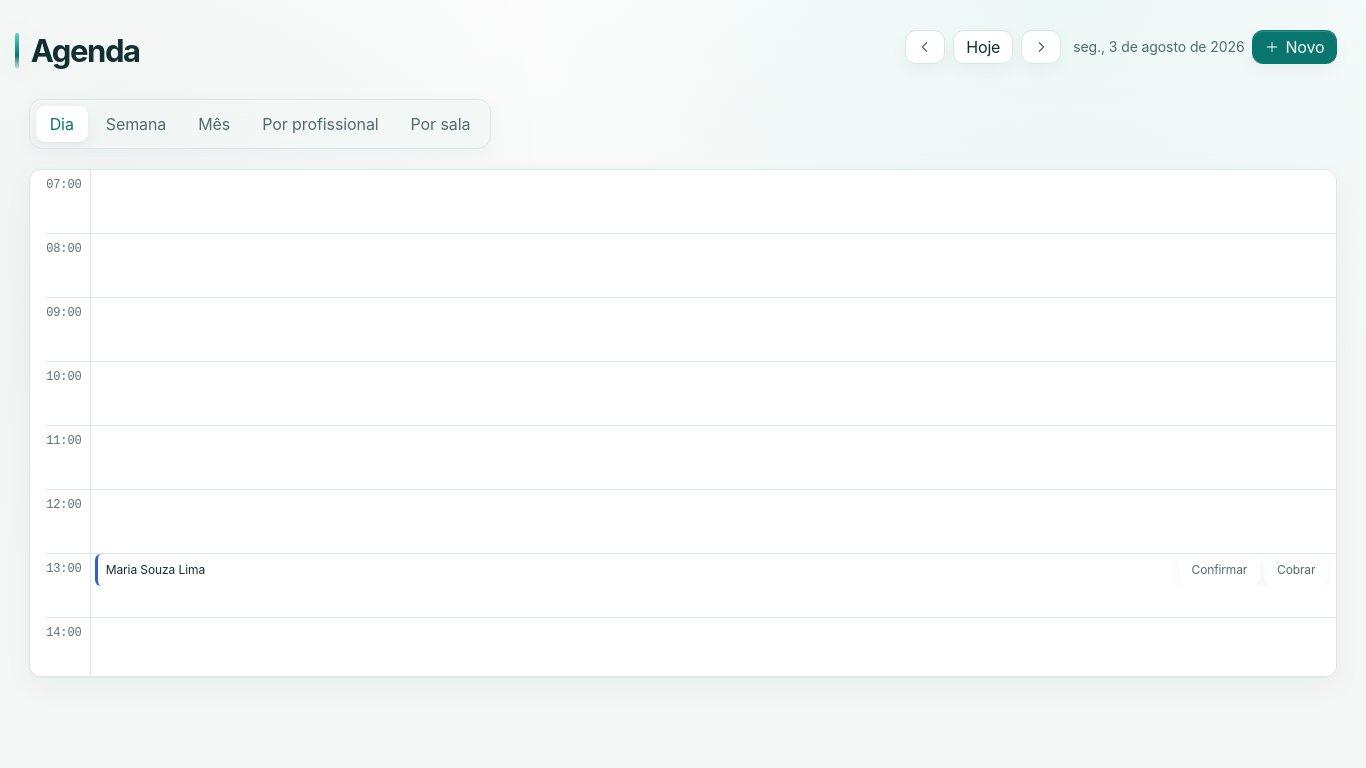
Scenario: tela Agenda › após confirmar, o status muda para confirmado e o glifo aparece
Check: the button "Maria Souza Lima" is shown, box [106,562,205,576]
Click the button with aria-label "Confirmar Maria Souza Lima": click(1219, 570) [1178,552,1260,586]
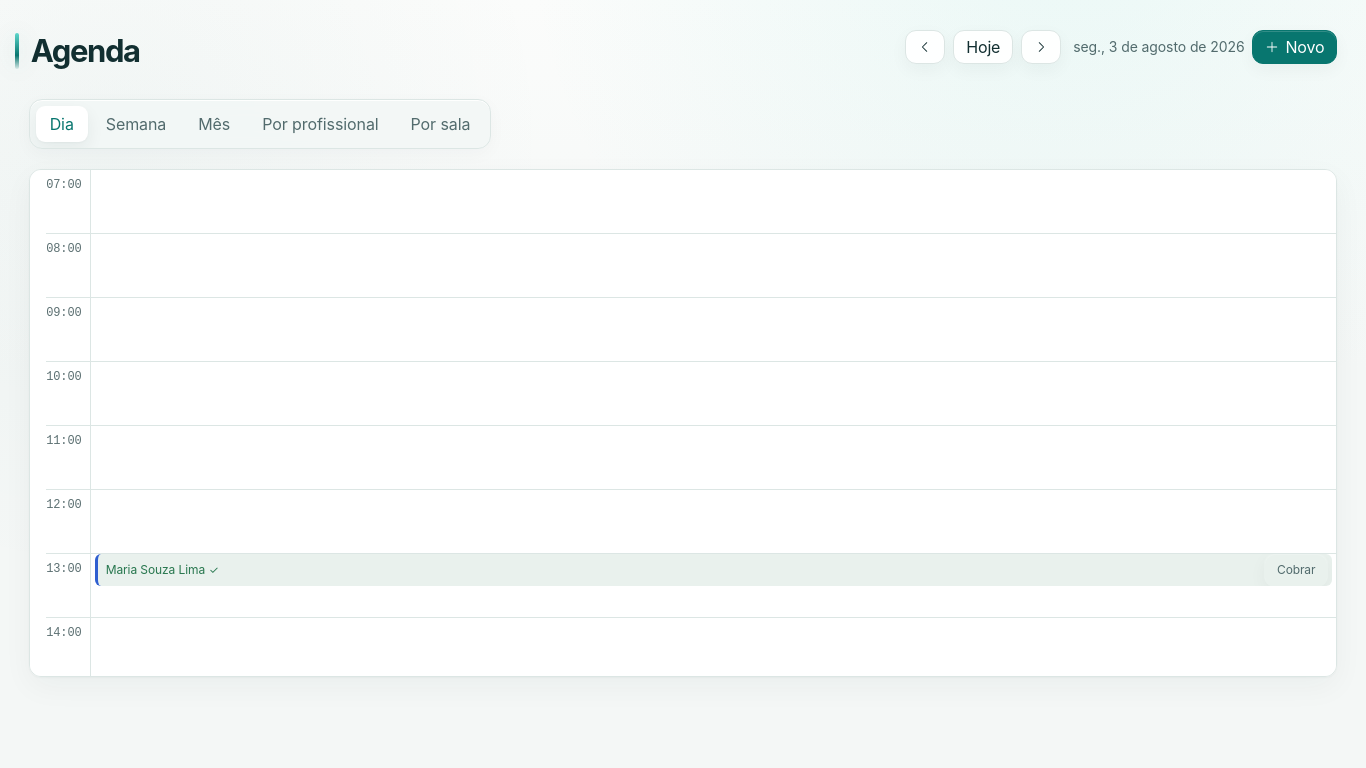
Check: the text named "Confirmado" is shown, box [209,562,219,576]
